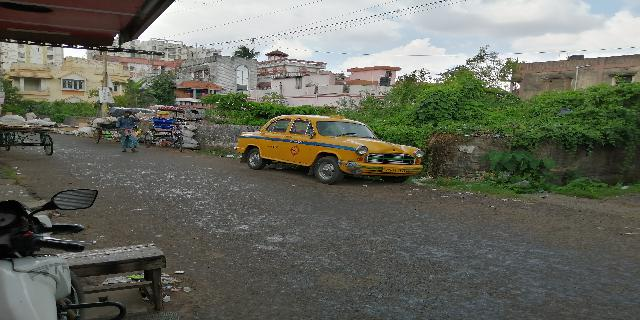Car: (232, 111, 426, 185)
